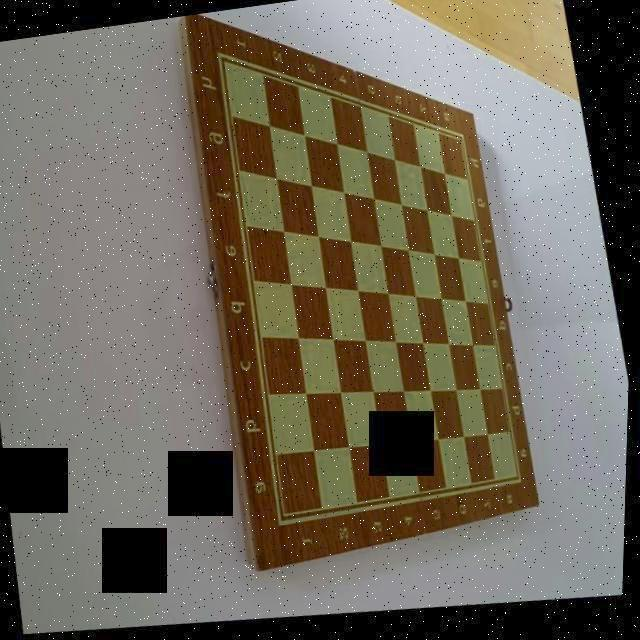chess-table-corners: (276, 508, 301, 540), (218, 50, 242, 78), (512, 466, 532, 493), (458, 125, 477, 153)
